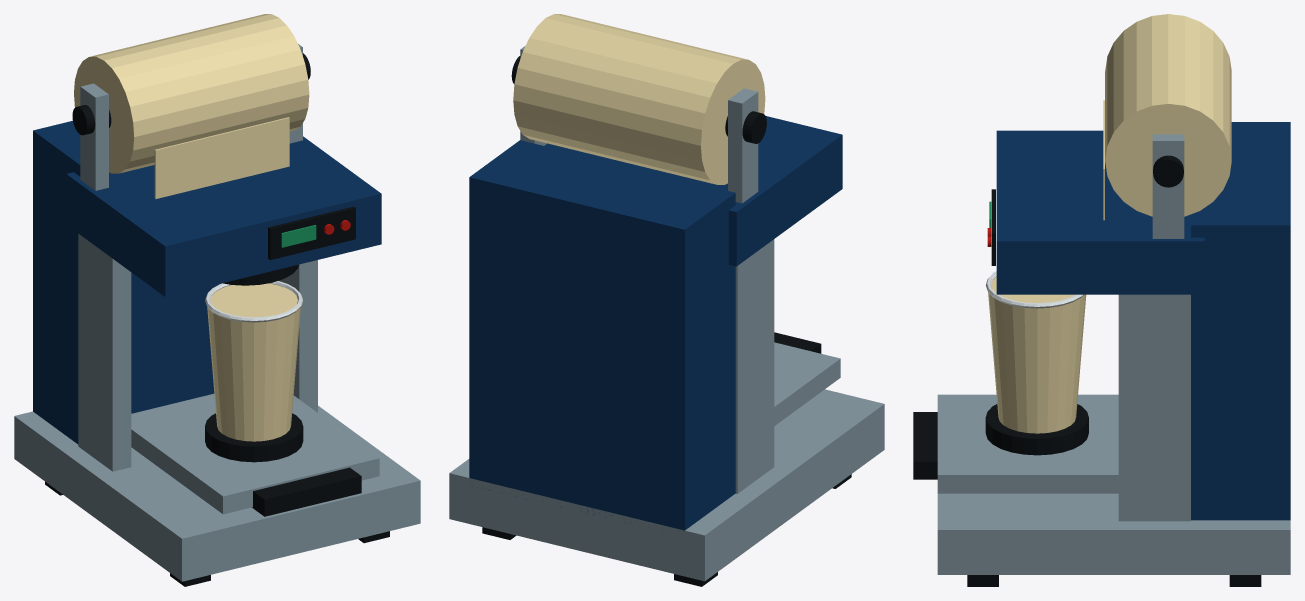
The model's file is cup_sealer.dae.
3 renders of one model, left to right at view 1: azimuth 30°, elevation 25°; view 2: azimuth 150°, elevation 25°; view 3: azimuth 270°, elevation 25°, orthographic. The views are drawn at different scales.
Parts seen in each view (by area): view 1: sealing_head, base, film_roll, rear_column, side_column (×2), cup_drawer, sample_cup, film_feed, drawer_handle, roll_bracket, cup_holder, control_panel (+4 smaller); view 2: rear_column, film_roll, base, sealing_head, side_column, cup_drawer, roll_bracket, film_spindle; view 3: rear_column, sealing_head, base, film_roll, side_column, cup_drawer, sample_cup, cup_holder, roll_bracket, drawer_handle, film_spindle, cup_lip.
Boxes of the visible parts, <box> form: sealing_head: <box>66,136,381,296</box>; base: <box>14,405,420,581</box>; film_roll: <box>74,14,309,173</box>; rear_column: <box>33,120,221,444</box>; side_column (×2): <box>78,234,317,471</box>; cup_drawer: <box>131,393,379,514</box>; sample_cup: <box>207,283,300,441</box>; film_feed: <box>154,117,289,199</box>; drawer_handle: <box>252,467,361,516</box>; roll_bracket: <box>80,83,108,190</box>; cup_holder: <box>205,413,303,462</box>; control_panel: <box>268,206,355,260</box>; rear_column: <box>469,140,735,530</box>; film_roll: <box>513,14,765,184</box>; base: <box>449,389,884,581</box>; sealing_head: <box>544,116,842,266</box>; side_column: <box>735,239,774,493</box>; cup_drawer: <box>774,342,840,425</box>; roll_bracket: <box>728,88,758,203</box>; film_spindle: <box>511,56,766,143</box>; rear_column: <box>1191,122,1290,520</box>; sealing_head: <box>996,130,1204,294</box>; base: <box>937,493,1290,574</box>; film_roll: <box>1105,14,1231,216</box>; side_column: <box>1118,294,1190,521</box>; cup_drawer: <box>937,394,1118,493</box>; sample_cup: <box>988,277,1086,433</box>; cup_holder: <box>985,404,1088,455</box>; roll_bracket: <box>1152,134,1184,238</box>; drawer_handle: <box>913,412,937,479</box>; film_spindle: <box>1153,155,1183,187</box>; cup_lip: <box>986,271,1083,308</box>.
Size of the model in its own units: 320 by 417 by 580.
